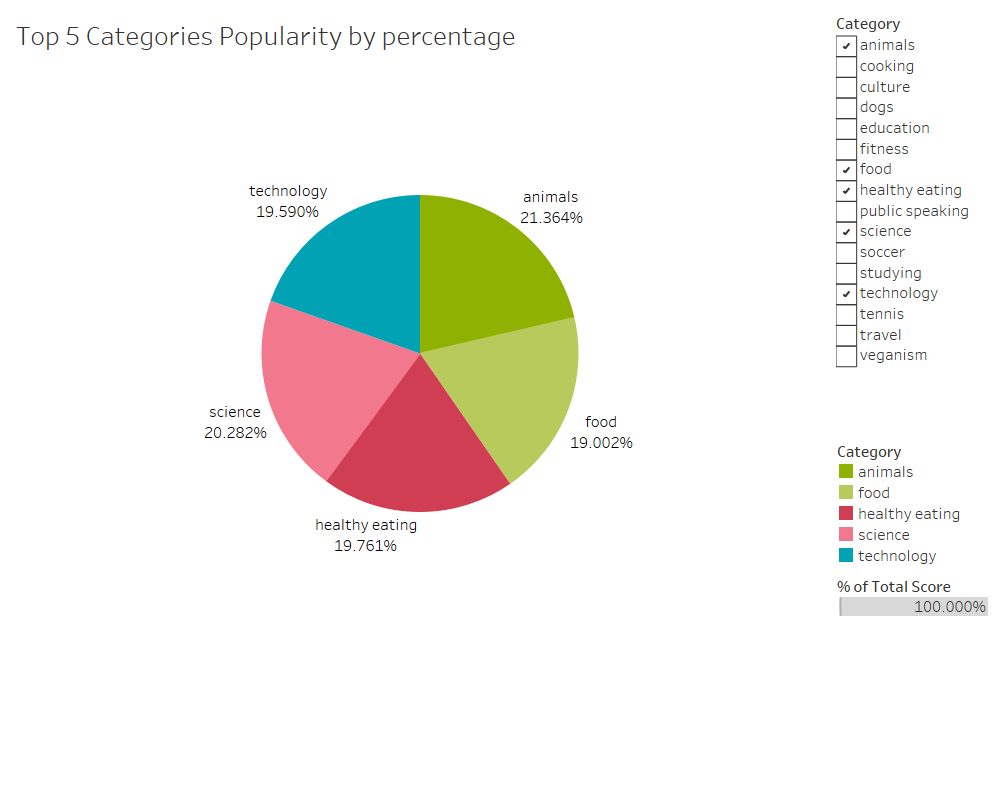

What the dashboard file says about the page in this screenshot:
{"tool":"tableau","page":{"name":"Dashboard 2","canvas":[1000,800],"ordinal":1},"visuals":[{"type":"worksheet","title":"Top 5 Categories Popularity by percentage ","mark":"Pie","box":[8,8,824,784]},{"type":"filter","title":"Top 5 Categories Popularity by percentage ","param":"[federated.1fvszlz0esf1cw127qa871diqsed].[none:Category:nk]","box":[832,8,160,427]},{"type":"legend","title":"Top 5 Categories Popularity by percentage ","param":"[federated.1fvszlz0esf1cw127qa871diqsed].[none:Category:nk]","box":[832,435,160,135]},{"type":"legend","title":"Top 5 Categories Popularity by percentage ","param":"[federated.1fvszlz0esf1cw127qa871diqsed].[pcto:sum:Score:qk]","box":[832,570,160,51]}]}

Visuals, with their boxes in screenshot pixels (x1, y1, x2, y2), scaled from the page's 1000x800 canvas onto the 1000x800 screenshot:
"Top 5 Categories Popularity by percentage " worksheet (Pie marks): Rect(8, 8, 832, 792)
"Top 5 Categories Popularity by percentage " filter: Rect(832, 8, 992, 435)
"Top 5 Categories Popularity by percentage " legend: Rect(832, 435, 992, 570)
"Top 5 Categories Popularity by percentage " legend: Rect(832, 570, 992, 621)
